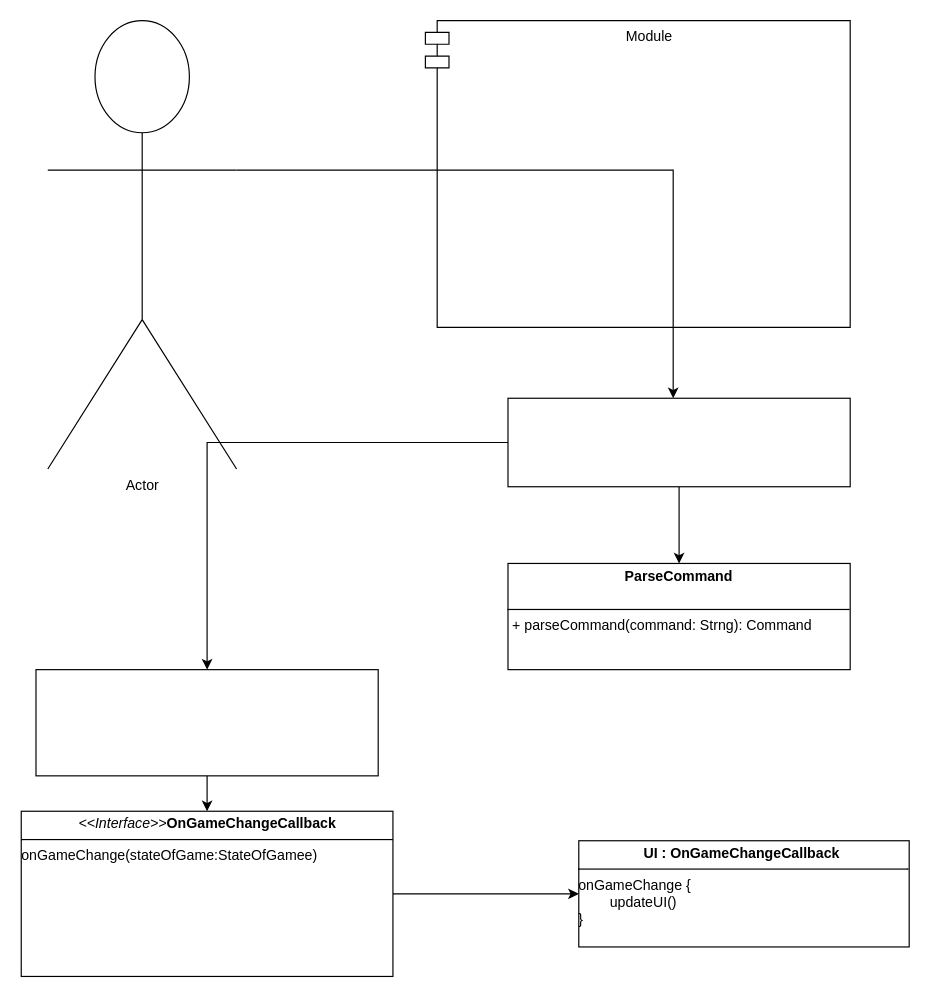
This 930x997 diagram has some shape labels left out. Here are the shapes that lost their labels. From the top down, the box of each, then its label:
(507, 397, 850, 487): Main + input(): String
(35, 668, 378, 776): Game + executeCommand(command: Command)
